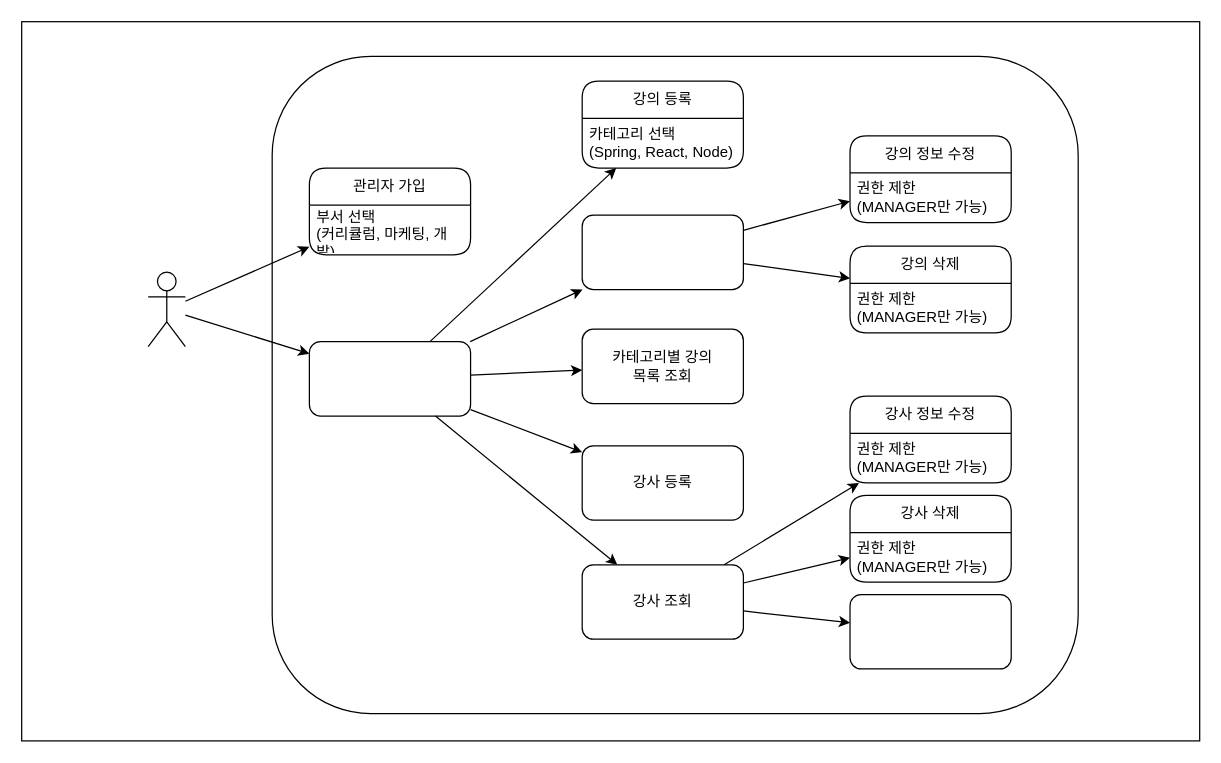
Some shapes in this 1221 by 763 pixel diagram are drawn without their labels. The centre of each missing label's shape, as x and y in pixels:
"강사의 강의 정보 조회" goes at (930,631).
"강의 조회" goes at (662,252).
"관리자" goes at (166,309).
"관리자 로그인" goes at (389,378).
